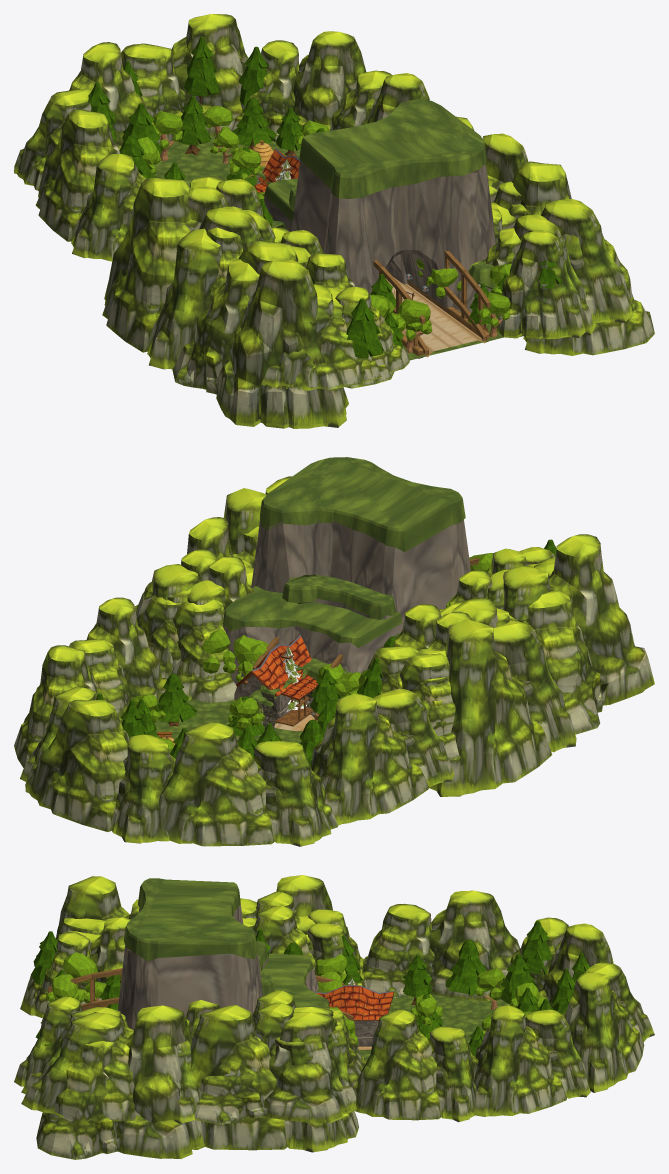
Rendered from EnvironmentGlobal.fbx.
The picture shows the model from 3 angles, top to bottom: view 1: azimuth 30°, elevation 25°; view 2: azimuth 150°, elevation 25°; view 3: azimuth 270°, elevation 25°; orthographic projection. The views are drawn at different scales.
Parts seen in each view (by area): view 1: trackOpen, trackHangBridge, trackTunnel, track150, trackTree, bigBridge, track100, mountTunnel, track50, house; view 2: trackOpen, trackHangBridge, trackTunnel, track150, mountTunnel, track50, trackTree, house, track100; view 3: trackOpen, trackTunnel, trackHangBridge, track150, track50, trackTree, house, mountTunnel, track100, bigBridge, normTree1.
Part boxes in pixels (box(x1,y1,x2,y2)): trackOpen: box(14, 14, 429, 261); trackHangBridge: box(102, 133, 654, 428); trackTunnel: box(199, 99, 633, 390); track150: box(190, 176, 585, 372); trackTree: box(244, 183, 594, 388); bigBridge: box(262, 194, 490, 358); track100: box(206, 181, 522, 292); mountTunnel: box(263, 178, 408, 284); track50: box(185, 186, 228, 231); house: box(254, 148, 299, 192); trackOpen: box(14, 597, 454, 846); trackHangBridge: box(144, 488, 654, 796); trackTunnel: box(135, 457, 592, 708); track150: box(173, 547, 554, 702); mountTunnel: box(223, 576, 402, 700); track50: box(140, 549, 471, 760); trackTree: box(167, 553, 538, 714); house: box(236, 635, 317, 726); track100: box(167, 526, 529, 736); trackOpen: box(352, 890, 654, 1122); trackTunnel: box(21, 878, 363, 1124); trackHangBridge: box(20, 875, 362, 1159); track150: box(14, 905, 367, 1086); track50: box(254, 892, 363, 1114); trackTree: box(21, 918, 366, 1094); house: box(313, 985, 394, 1046); mountTunnel: box(262, 953, 346, 1019); track100: box(186, 910, 358, 1045); bigBridge: box(48, 968, 353, 1020); normTree1: box(410, 994, 442, 1025).
Bounding box in the file's own units: 21568 × 8890 × 31578.
